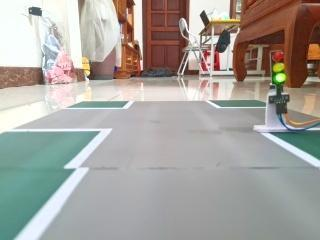green: (264, 45, 295, 94)
